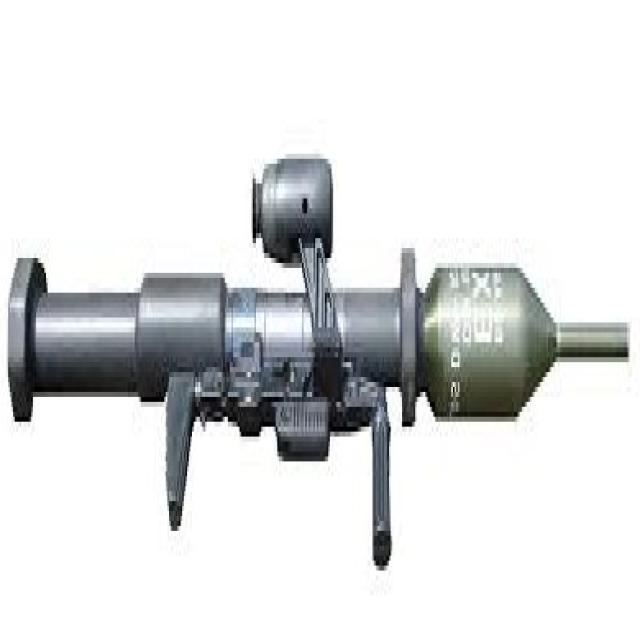bazooka: (6, 131, 636, 588)
